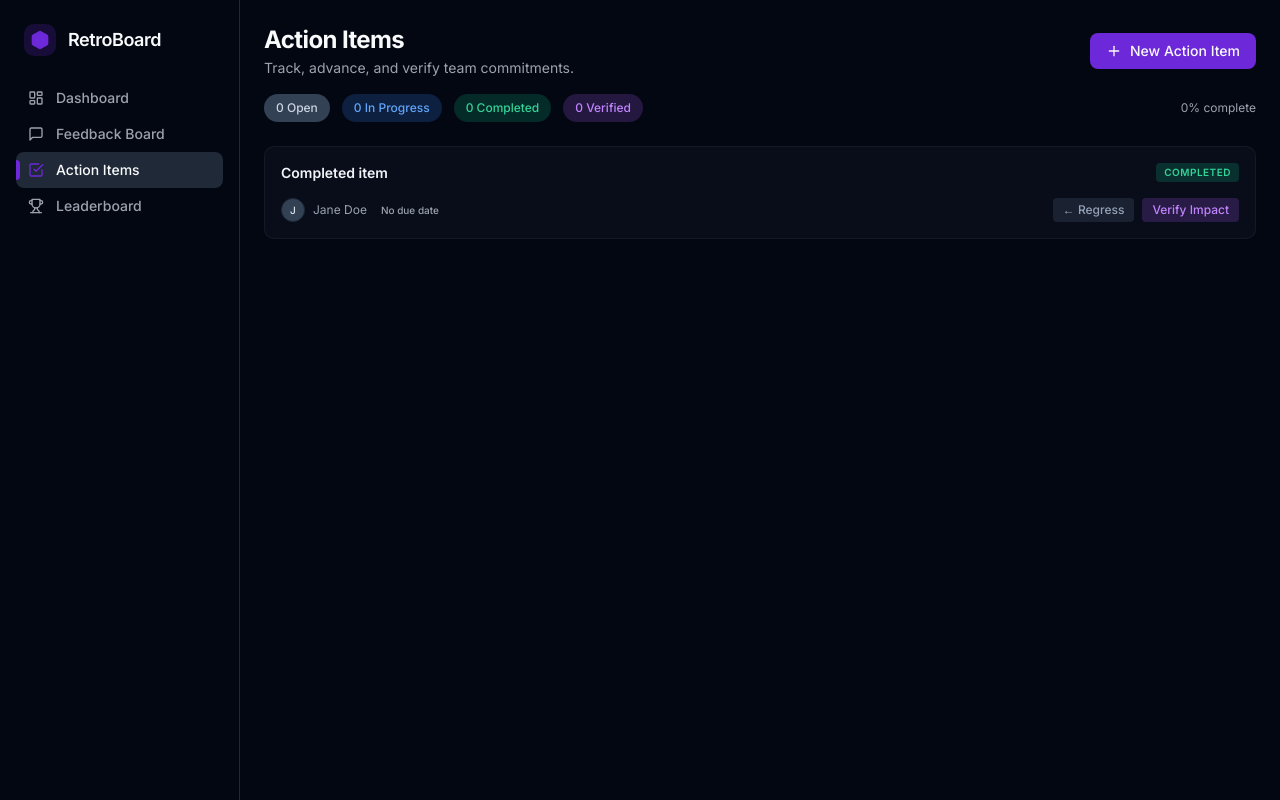
Test case: AI-9: clicking verify-btn → verify-impact-modal appears in DOM
Check: the button with test id "open-new-action-btn" is shown, box x1=1090 y1=33 x2=1256 y2=69
Click the button with test id "verify-btn": (1191, 210) x1=1142 y1=198 x2=1239 y2=222
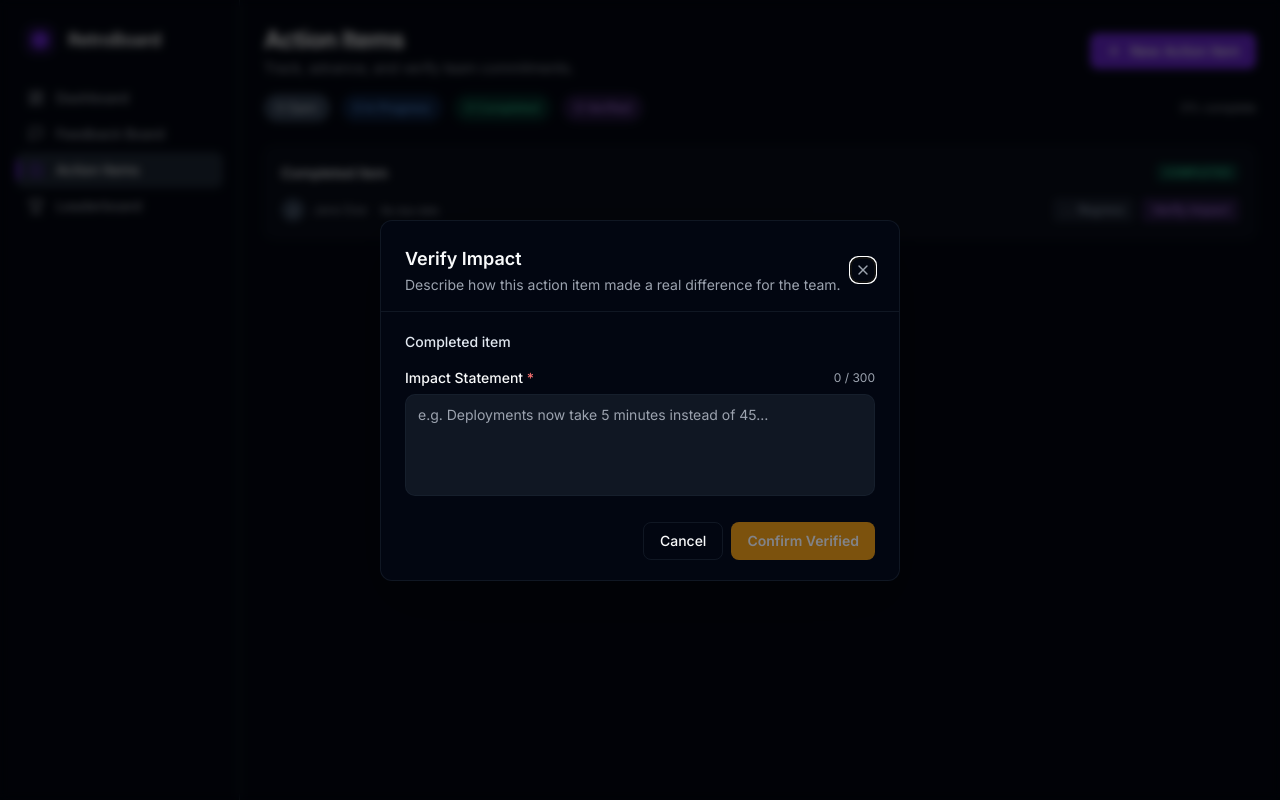
Check: the dialog with test id "verify-impact-modal" is shown, box x1=380 y1=220 x2=900 y2=580
